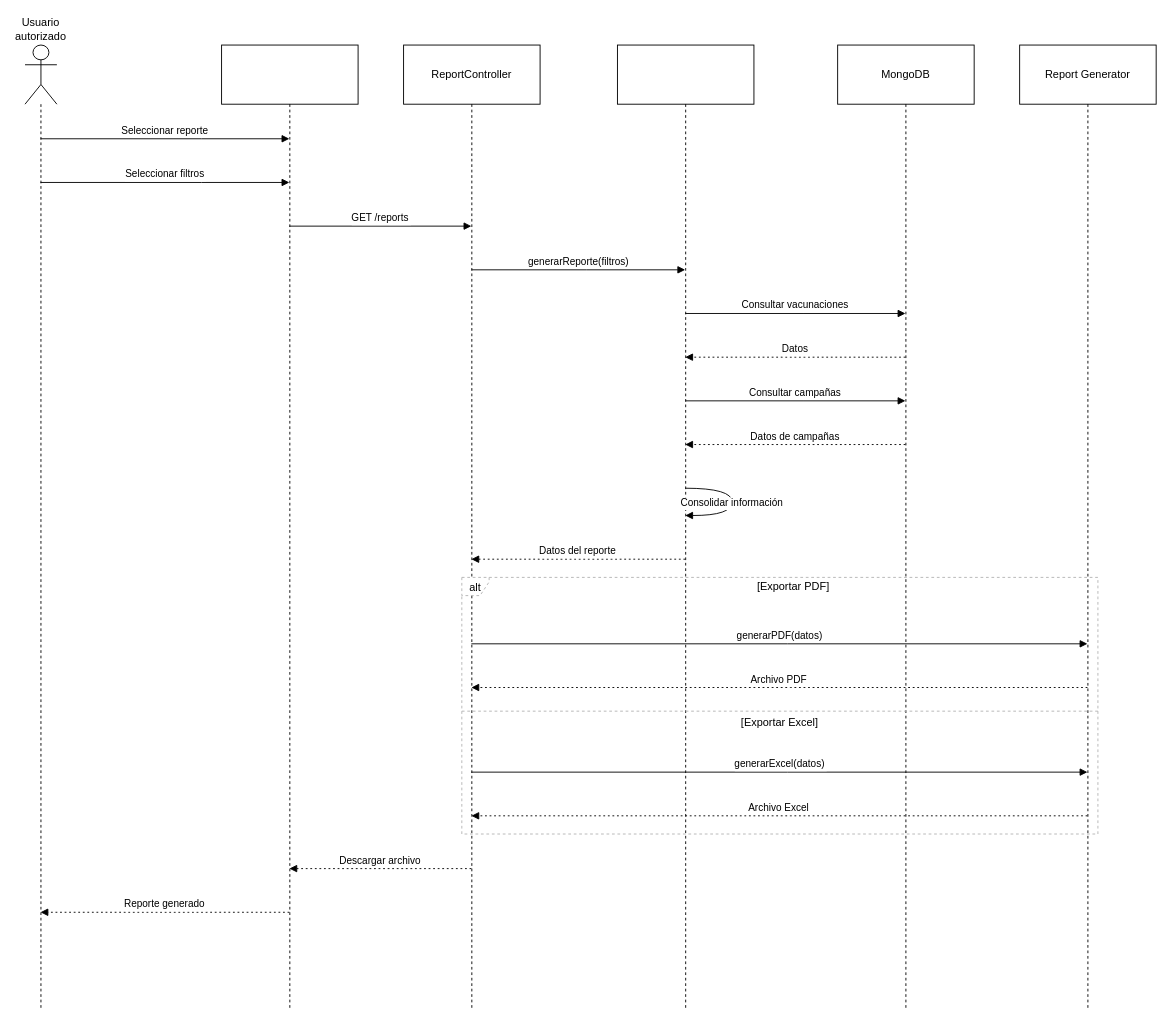
This 1172x1024 diagram has some shape labels left out. Here are the shapes that lost their labels. From the top down, the box of each, then its label:
(221, 44, 358, 1008): Aplicación Web
(617, 44, 754, 1008): ReportService
